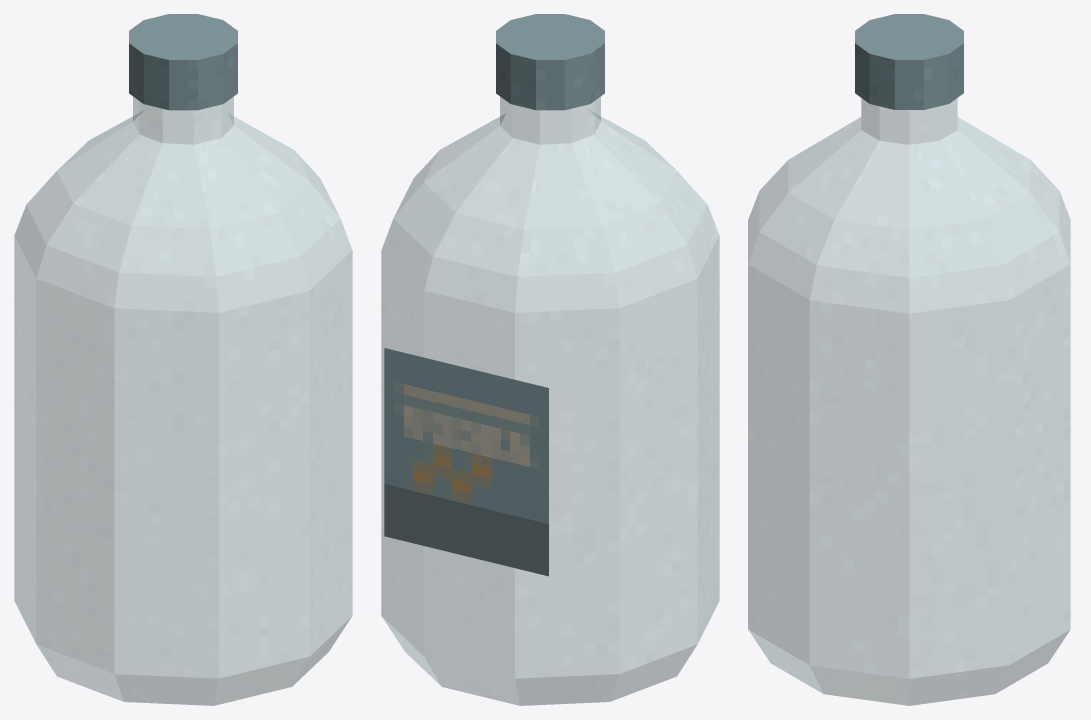
Rendered from vodka.glb.
The picture shows the model from 3 angles, left to right: view 1: azimuth 30°, elevation 25°; view 2: azimuth 150°, elevation 25°; view 3: azimuth 270°, elevation 25°; orthographic projection.
Parts seen in each view (by area): view 1: block_bottle silhouette, block_bottle closure; view 2: block_bottle silhouette, block_drink label, block_bottle closure; view 3: block_bottle silhouette, block_bottle closure.
Boxes of the visible parts, x1=… form: block_bottle silhouette: x1=14, y1=96, x2=352, y2=705; block_bottle closure: x1=129, y1=14, x2=237, y2=110; block_bottle silhouette: x1=381, y1=96, x2=719, y2=705; block_drink label: x1=384, y1=348, x2=548, y2=576; block_bottle closure: x1=496, y1=14, x2=604, y2=110; block_bottle silhouette: x1=748, y1=98, x2=1070, y2=705; block_bottle closure: x1=855, y1=14, x2=963, y2=109.
Size of the model in its own units: 0.0829 by 0.1638 by 0.0803.
Materials: 2 (2 with a texture image).
